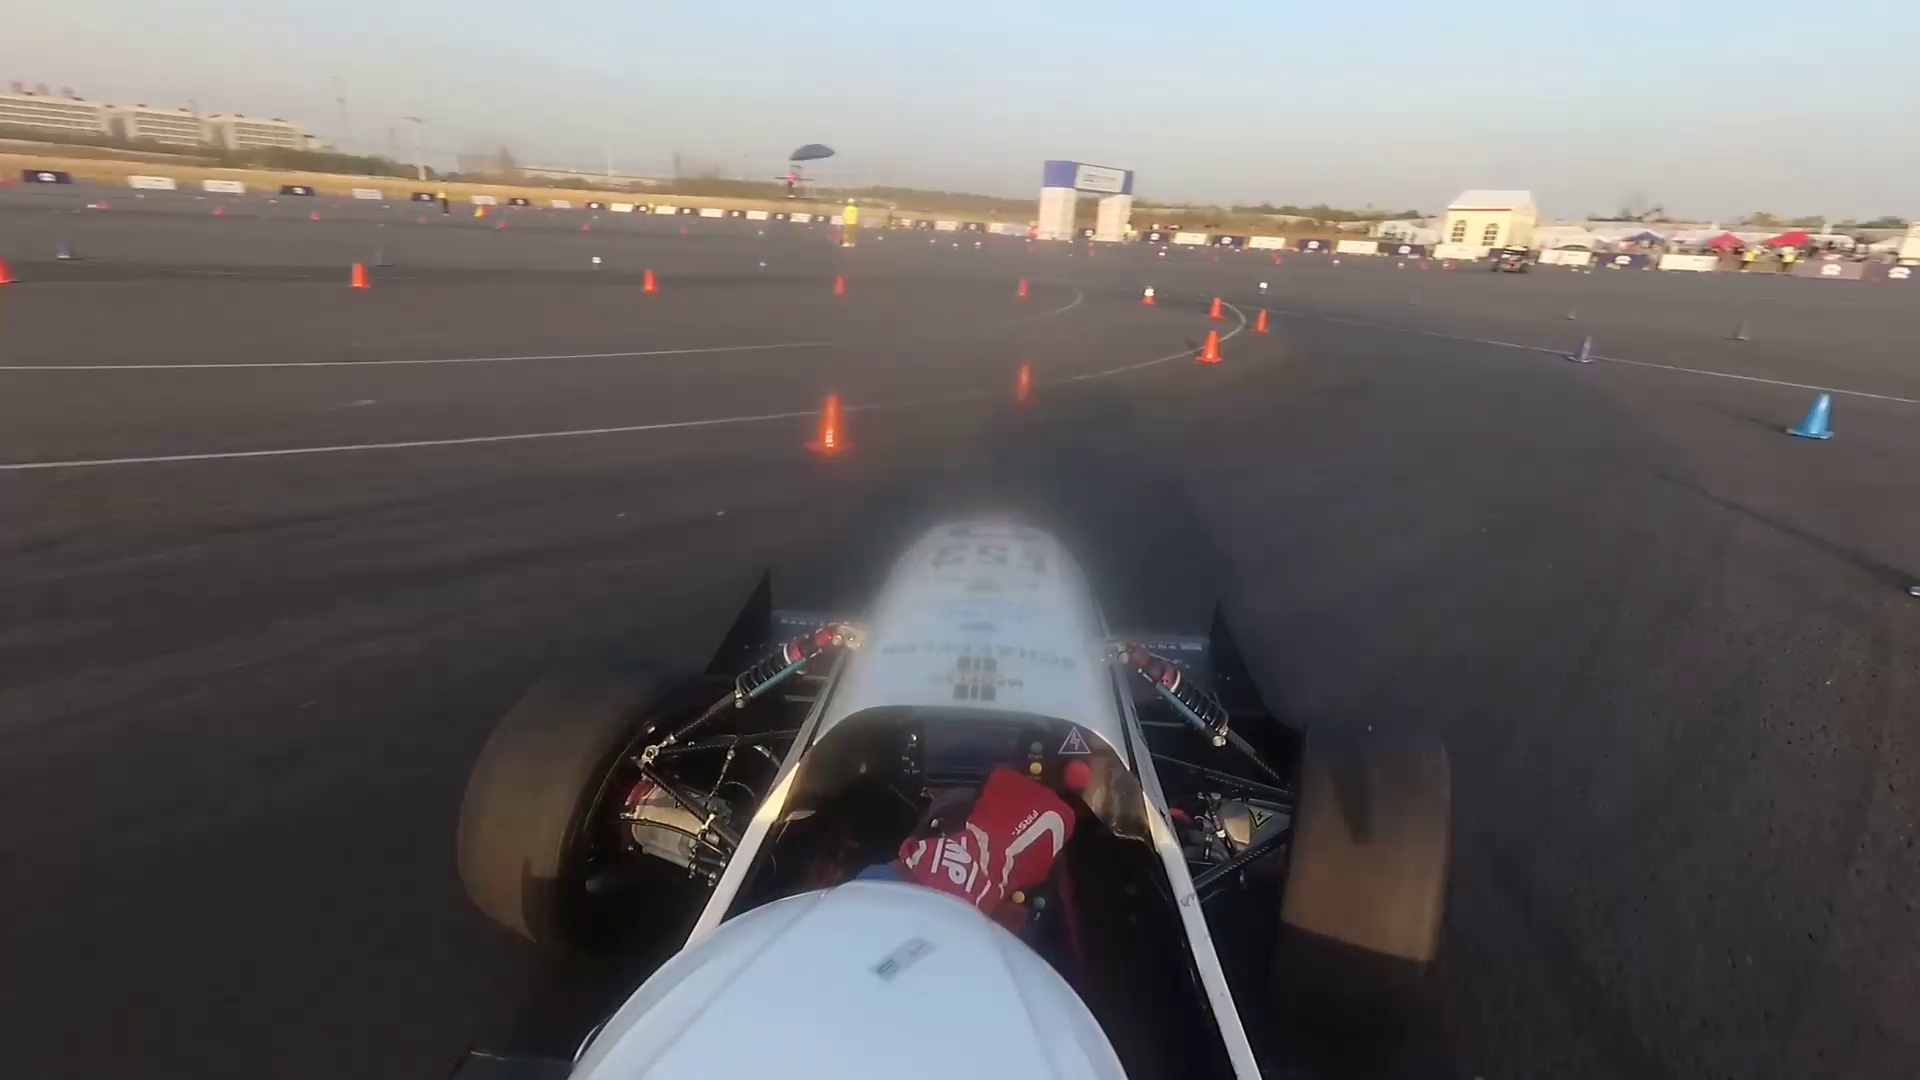blue_cone: (1795, 390, 1840, 439), (1569, 339, 1592, 368), (53, 233, 73, 264), (752, 256, 774, 276), (1731, 320, 1750, 344), (1251, 280, 1270, 298), (588, 255, 604, 273), (1567, 305, 1578, 324)
red_cone: (807, 392, 862, 462), (1011, 365, 1044, 414), (1200, 335, 1220, 364), (640, 270, 663, 294), (349, 262, 371, 289), (1204, 295, 1225, 319), (829, 273, 851, 295), (1254, 309, 1269, 335), (1015, 277, 1030, 303), (1139, 286, 1156, 305)
